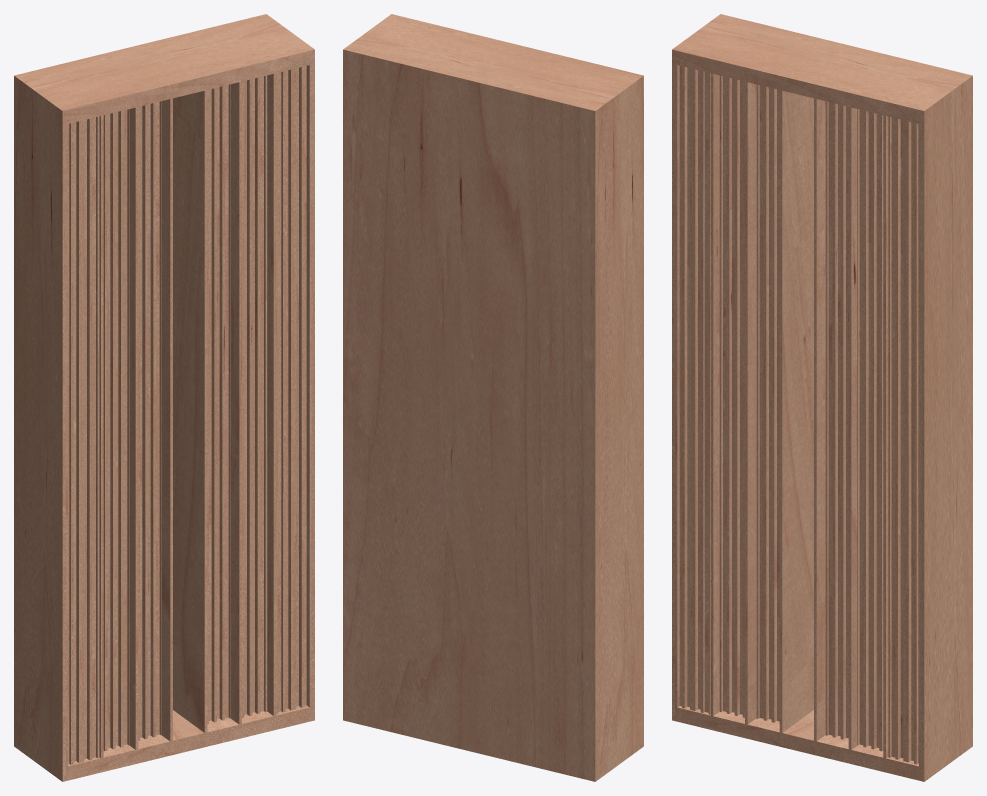
Rendered from RQS450FX.glb.
The picture shows the model from 3 angles, left to right: view 1: azimuth 30°, elevation 25°; view 2: azimuth 150°, elevation 25°; view 3: azimuth 330°, elevation 25°; orthographic projection.
Visible parts, largest first — view 1: 5407; view 2: 5407; view 3: 5407.
Boxes of the visible parts, x1,y1,x2,y2 form: 5407: [14, 14, 314, 781]; 5407: [343, 14, 643, 781]; 5407: [672, 14, 972, 781].
Bounding box in the file's own units: 23.63 × 60 × 7.87.
Materials: 1 (1 with a texture image).
